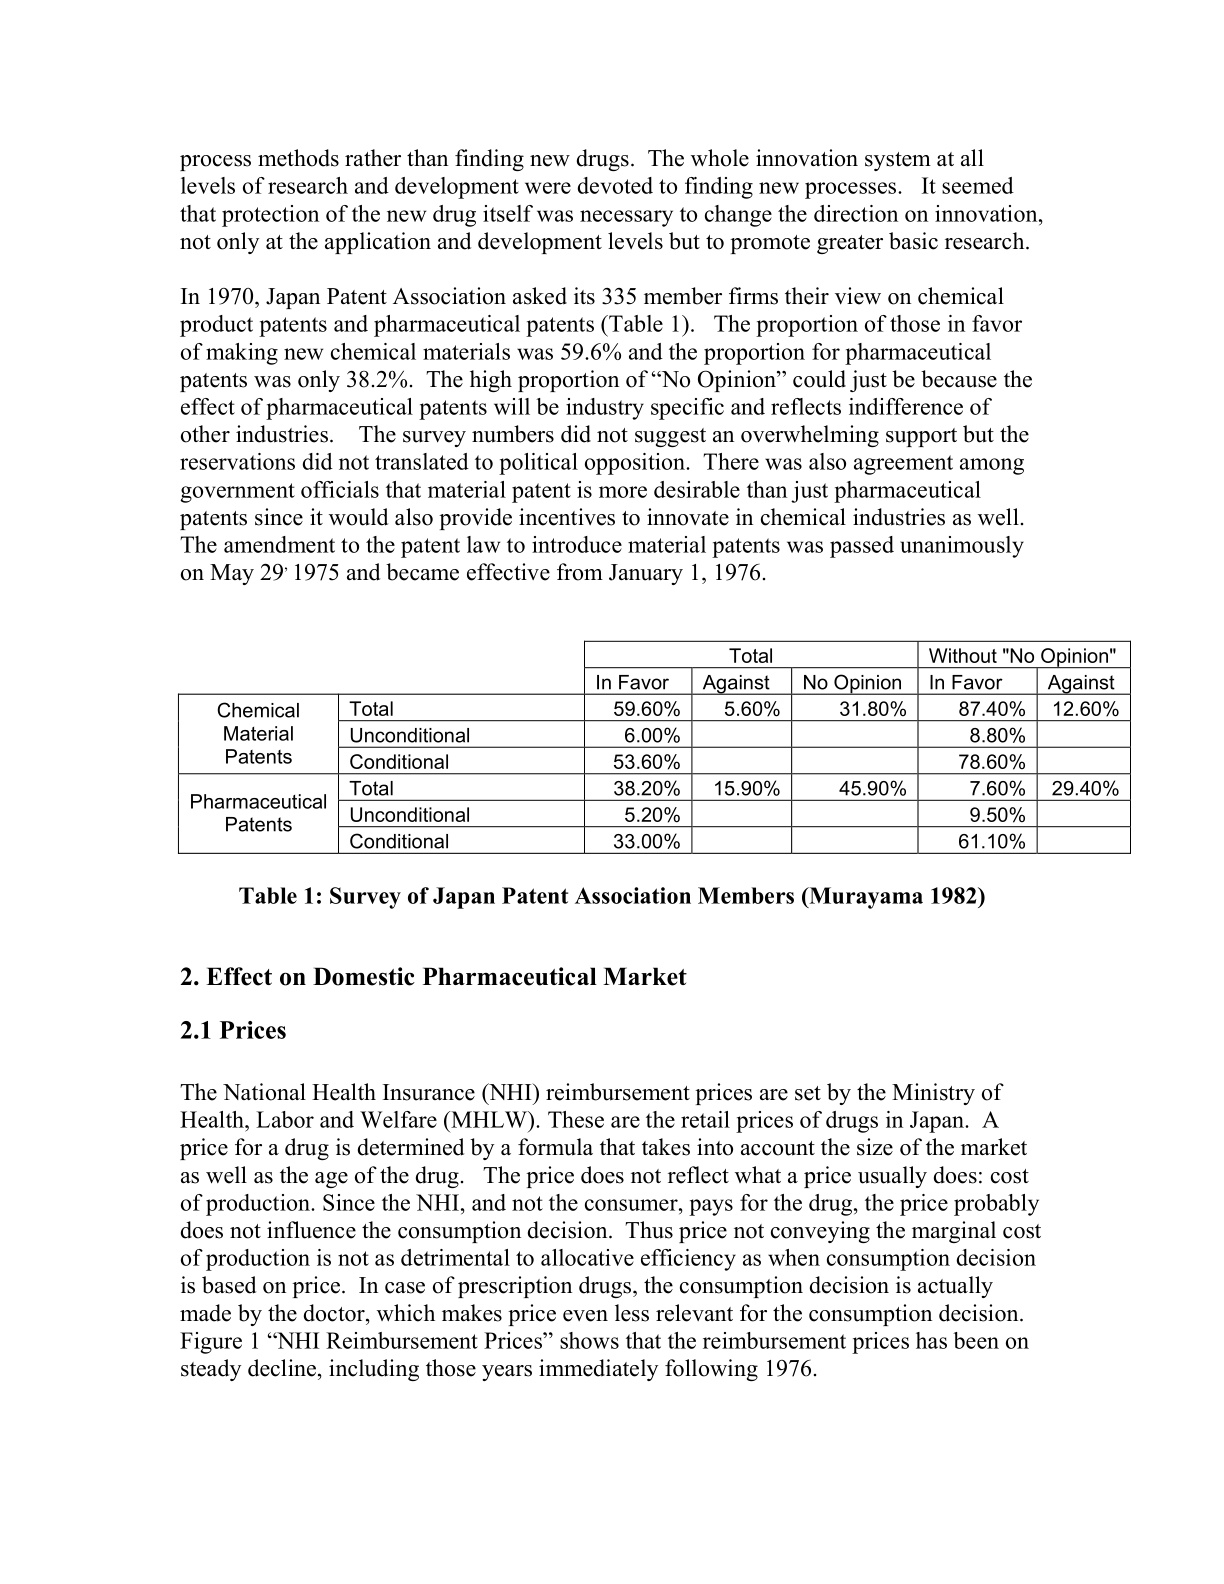merged_cells: (177, 640, 1131, 855)
